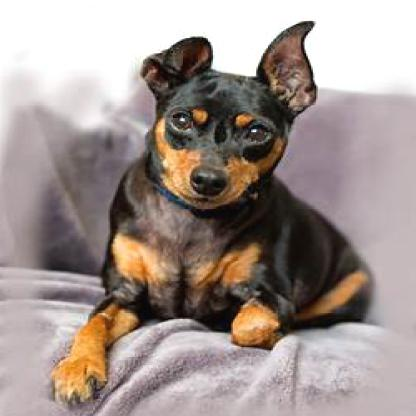dog: (51, 18, 374, 406)
